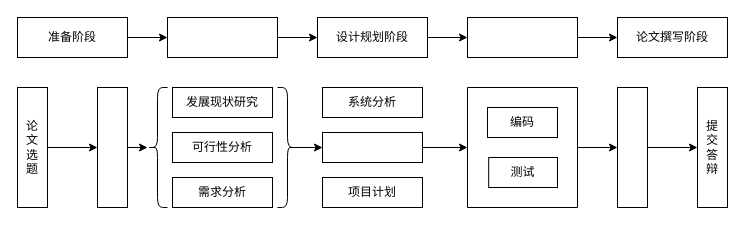
The diagram is 745 pixels wide and 225 high, and some of its shapes have lost their labels. The shapes that lost their labels are listed below. From the top down, each one's box as (x1, y1, x2, y2) in pixels, then its label:
(166, 16, 278, 58): 调查研究阶段
(466, 16, 578, 58): 计划实施阶段
(96, 86, 128, 208): 资 料 文 献 搜 集
(322, 132, 422, 162): 软件设计
(616, 86, 648, 208): 论 文 撰 写
